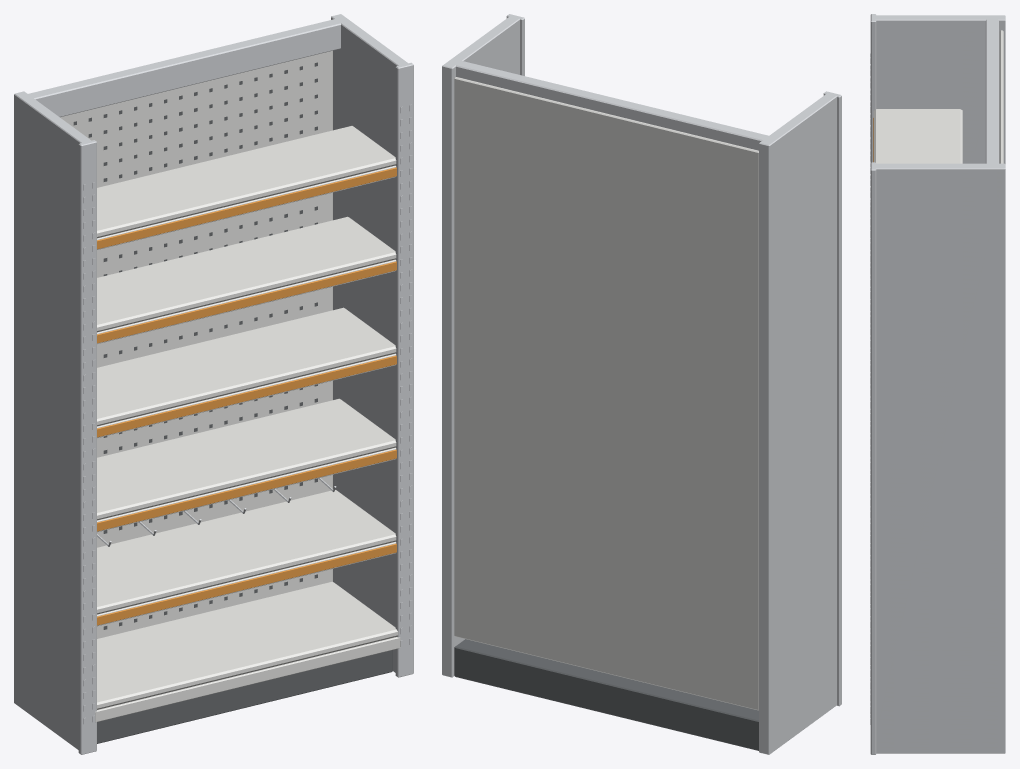
The picture shows the model from 3 angles, left to right: view 1: azimuth 30°, elevation 25°; view 2: azimuth 150°, elevation 25°; view 3: azimuth 270°, elevation 25°; orthographic projection. The views are drawn at different scales.
Parts seen in each view (by area): view 1: shop-bay-pegboard-back; view 2: shop-bay-pegboard-back; view 3: shop-bay-pegboard-back.
Boxes of the visible parts, bbox=[...] form: shop-bay-pegboard-back: bbox=[14, 14, 413, 754]; shop-bay-pegboard-back: bbox=[442, 14, 841, 754]; shop-bay-pegboard-back: bbox=[870, 14, 1005, 754].
Bounding box in the file's own units: 1.37 × 2.4 × 0.503.
